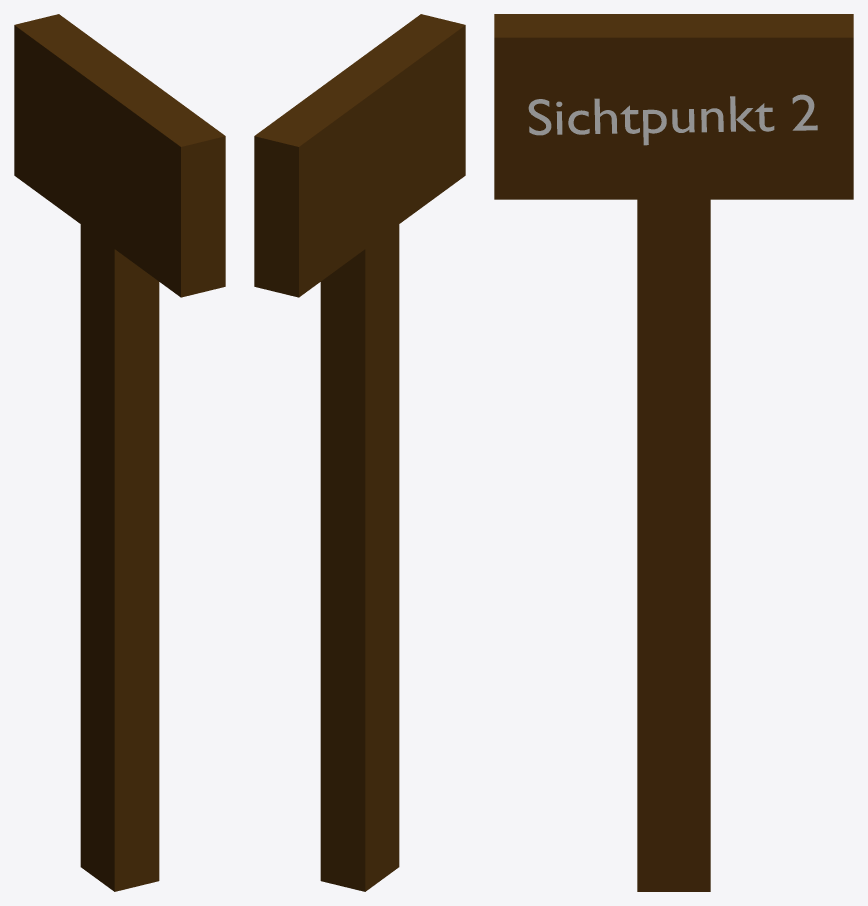
File: Sichtpunkt2_Schild.fbx
The picture shows the model from 3 angles, left to right: view 1: azimuth 30°, elevation 25°; view 2: azimuth 150°, elevation 25°; view 3: azimuth 270°, elevation 25°; orthographic projection. The views are drawn at different scales.
Parts seen in each view (by area): view 1: Cube, Cube.001; view 2: Cube, Cube.001; view 3: Cube.001, Cube, Text.
Part boxes in pixels (bbox=[...]): Cube: bbox=[80, 218, 159, 891]; Cube.001: bbox=[14, 14, 225, 297]; Cube: bbox=[320, 218, 399, 891]; Cube.001: bbox=[254, 14, 465, 297]; Cube.001: bbox=[494, 14, 853, 199]; Cube: bbox=[637, 192, 710, 891]; Text: bbox=[528, 94, 817, 145].
Size of the model in its own units: 76.49 by 1119 by 427.
